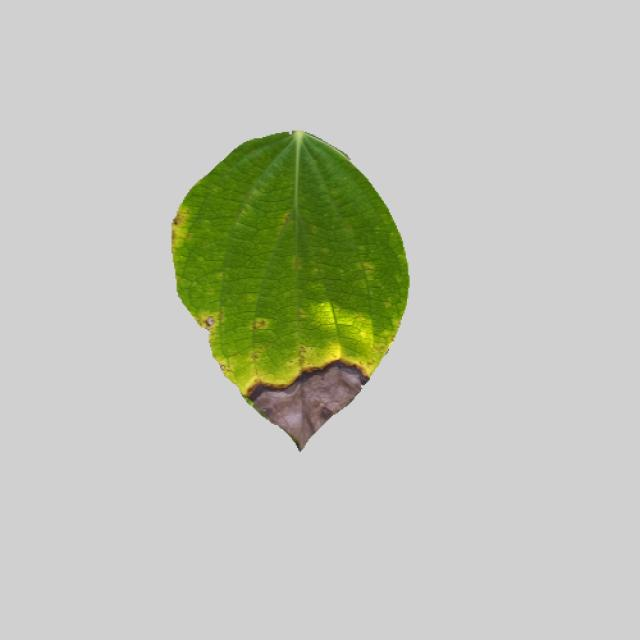leaf-blight: (164, 127, 417, 448)
